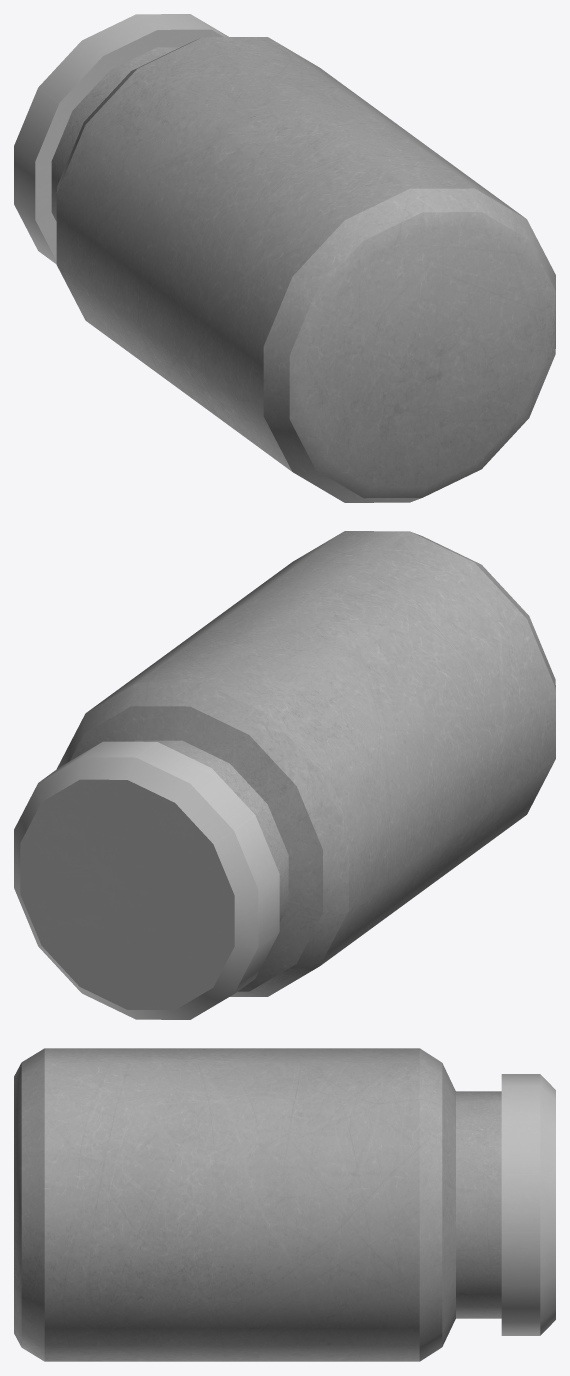
File: Fixed_Item_Bottle Wide1_Ver1.fbx
The picture shows the model from 3 angles, top to bottom: view 1: azimuth 30°, elevation 25°; view 2: azimuth 150°, elevation 25°; view 3: azimuth 270°, elevation 25°; orthographic projection. The views are drawn at different scales.
Parts seen in each view (by area): view 1: Bottle wide1_body, Bottle wide1_cap; view 2: Bottle wide1_body, Bottle wide1_cap; view 3: Bottle wide1_body, Bottle wide1_cap.
Boxes of the visible parts, left/top/right/bottom form: Bottle wide1_body: left=51, top=37, right=555, bottom=502; Bottle wide1_cap: left=14, top=14, right=228, bottom=264; Bottle wide1_body: left=57, top=531, right=555, bottom=996; Bottle wide1_cap: left=14, top=741, right=279, bottom=1019; Bottle wide1_body: left=14, top=1048, right=501, bottom=1361; Bottle wide1_cap: left=501, top=1074, right=555, bottom=1335.
Bounding box in the file's own units: 97.56 × 100 × 173.
Materials: 1 (1 with a texture image).
